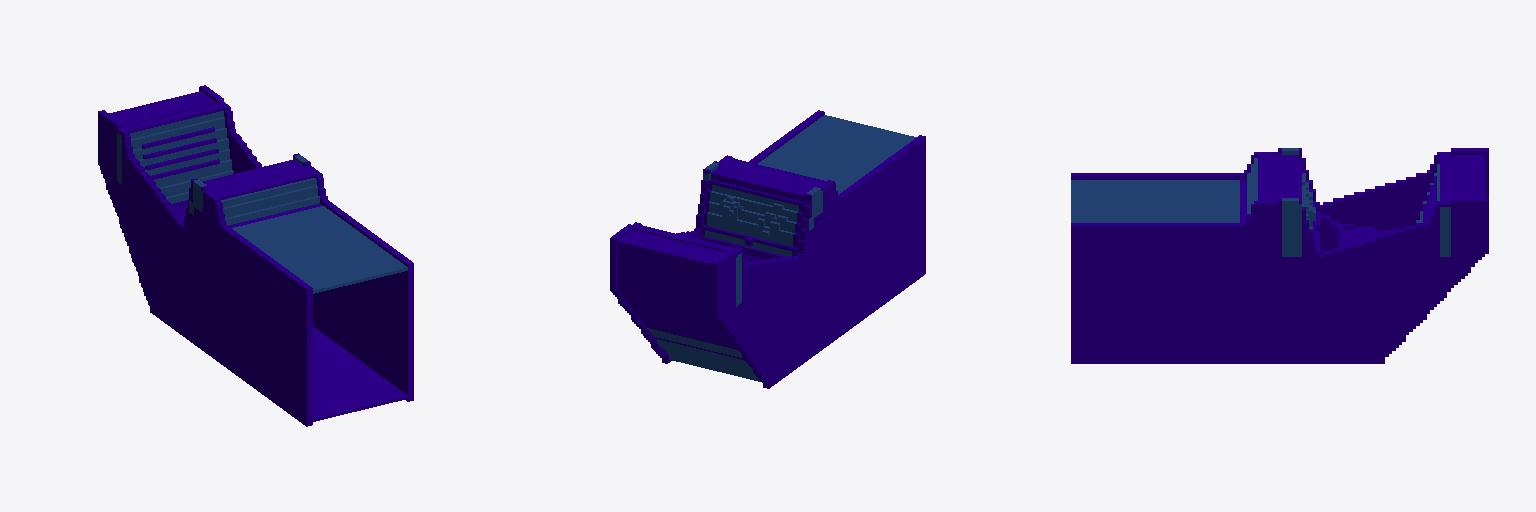
3 views of the same model, side by side, from view 1: azimuth 30°, elevation 25°; view 2: azimuth 150°, elevation 25°; view 3: azimuth 270°, elevation 25° (orthographic).
Parts seen in each view (by area): view 1: object 1; view 2: object 1; view 3: object 1.
Part boxes in pixels (x1,y1,x2,y2): object 1: (98,85,413,426); object 1: (610,110,925,388); object 1: (1071,148,1488,363).
Bounding box in the file's own units: 3.6 × 5.2 × 12.1.
1 materials, 1 textured.